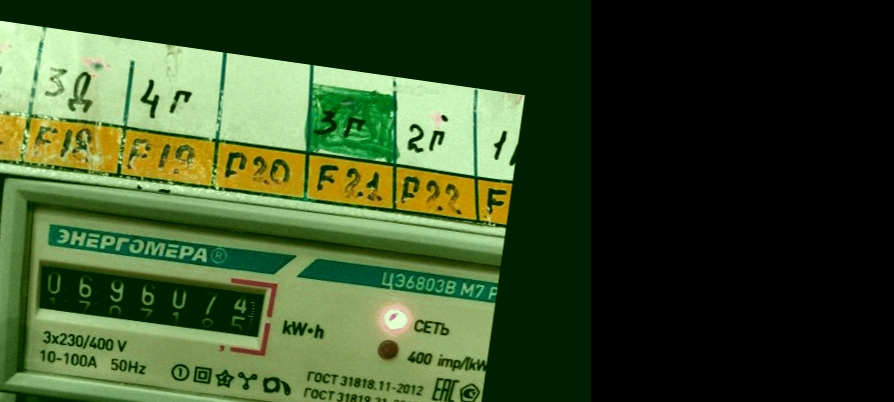0: (43, 267, 66, 295), (169, 282, 190, 310)
4: (231, 290, 250, 314)
5: (228, 313, 247, 335)
6: (137, 278, 159, 307), (75, 271, 96, 298)
7: (201, 288, 220, 316)
9: (107, 274, 126, 302)
screen: (21, 245, 282, 360)
